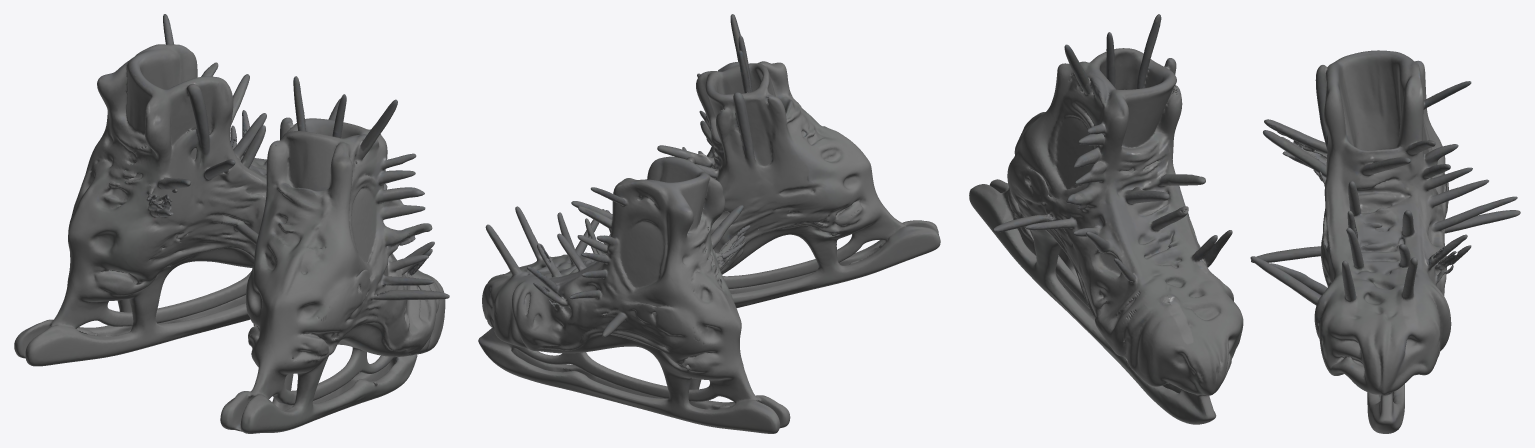
File: sport-neutral.glb
3 renders of one model, left to right at view 1: azimuth 30°, elevation 25°; view 2: azimuth 150°, elevation 25°; view 3: azimuth 270°, elevation 25°, orthographic. The views are drawn at different scales.
Parts seen in each view (by area): view 1: obj1; view 2: obj1; view 3: obj1.
Part boxes in pixels (left/top/right/bottom): obj1: left=14, top=14, right=449, bottom=433; obj1: left=478, top=14, right=940, bottom=433; obj1: left=969, top=14, right=1520, bottom=433.
Size of the model in its own units: 1.31 by 1.2 by 1.71.
Materials: 1 (1 with a texture image).
